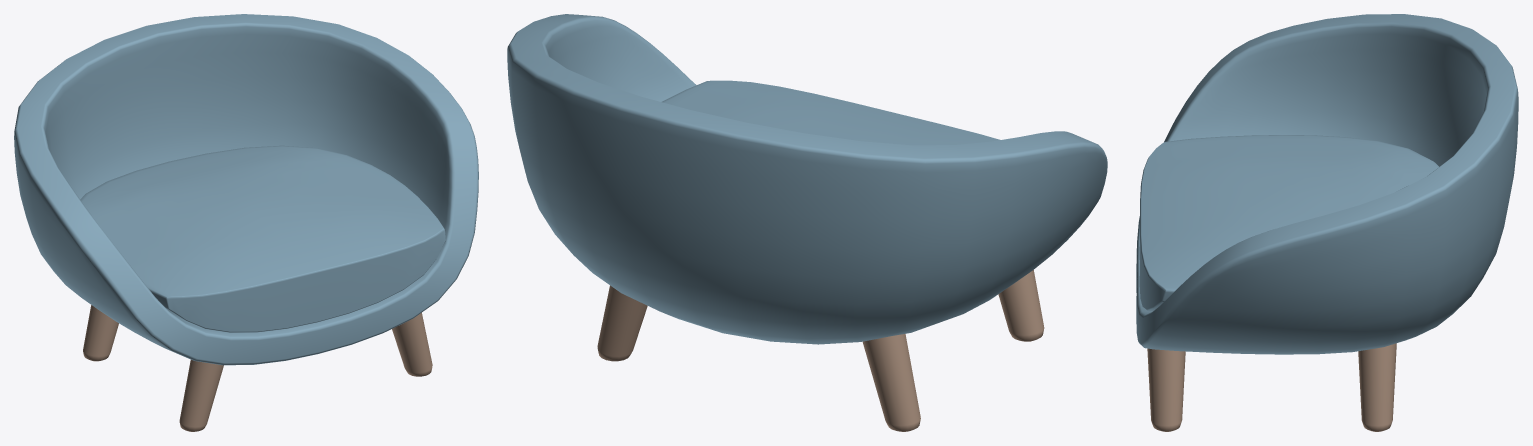
File: Chair_Armchair_3.glb
3 views of the same model, side by side, from view 1: azimuth 30°, elevation 25°; view 2: azimuth 150°, elevation 25°; view 3: azimuth 270°, elevation 25° (orthographic). The views are drawn at different scales.
Visible parts, largest first — view 1: Armchair_3; view 2: Armchair_3; view 3: Armchair_3.
Part boxes in pixels (x1,y1,x2,y2): Armchair_3: (14, 14, 478, 431); Armchair_3: (507, 14, 1107, 431); Armchair_3: (1136, 14, 1518, 431).
Size of the model in its own units: 1.82 by 1.1 by 1.35.
1 material, 1 textured.
